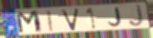1: (85, 7, 97, 30)
I: (46, 10, 55, 33)
J: (128, 4, 145, 28), (108, 7, 123, 27)
M: (14, 10, 44, 35)
V: (61, 8, 80, 32)
